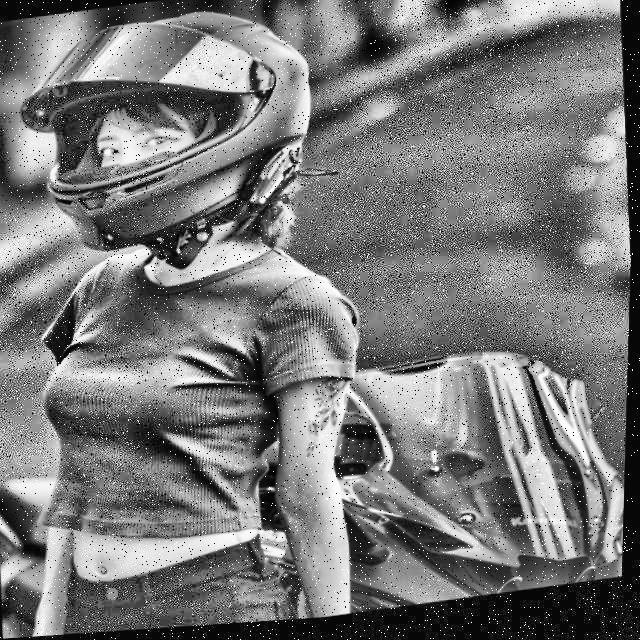Helmet: (0, 0, 336, 300)
